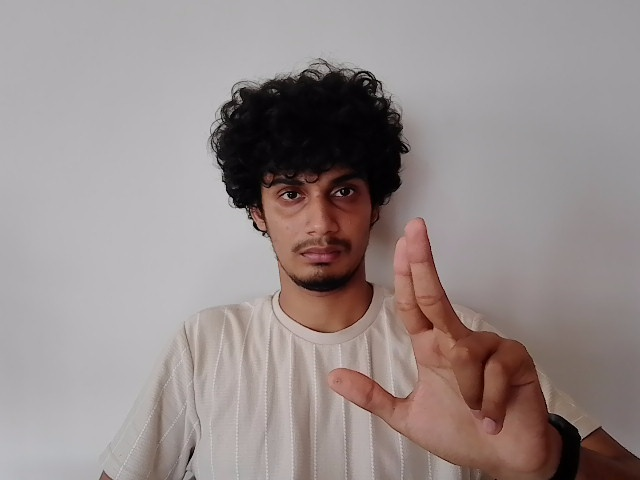no: (330, 216, 550, 459)
